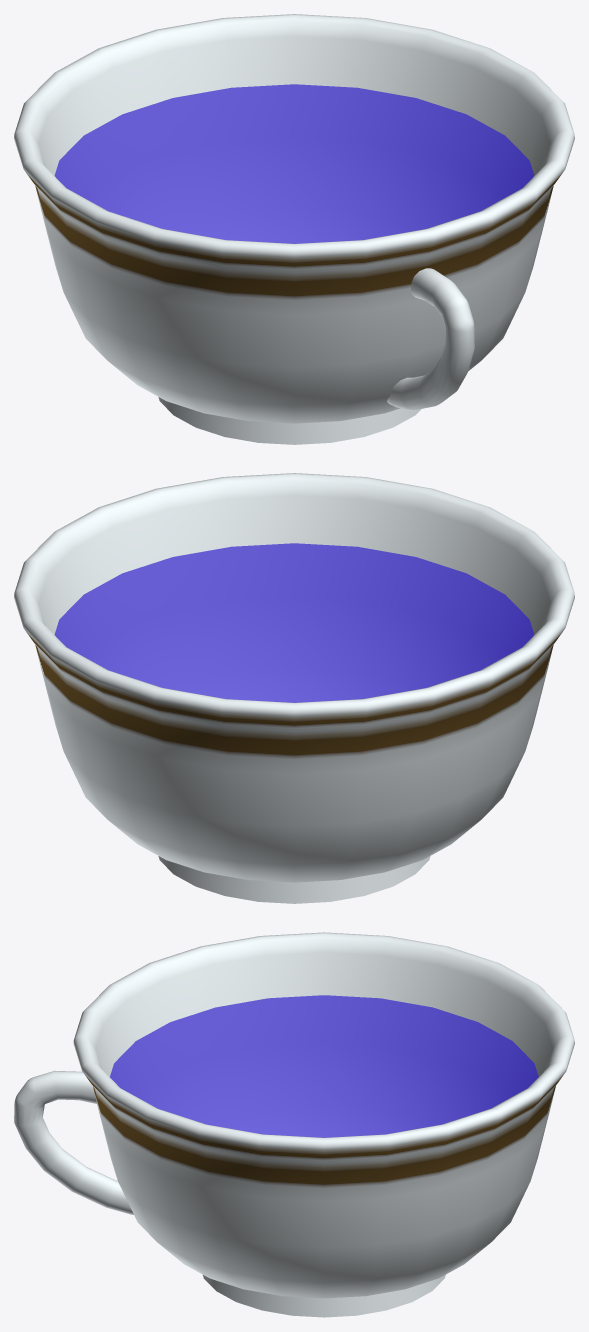
Rendered from 飲み物_ティーカップ.fbx.
3 views of the same model, one above another, from view 1: azimuth 30°, elevation 25°; view 2: azimuth 150°, elevation 25°; view 3: azimuth 270°, elevation 25° (orthographic). The views are drawn at different scales.
Visible parts, largest first — view 1: ティーカップ, 液面; view 2: ティーカップ, 液面; view 3: ティーカップ, 液面.
Part boxes in pixels (x1,y1,x2,y2): ティーカップ: [14, 14, 574, 444]; 液面: [54, 84, 534, 243]; ティーカップ: [14, 473, 574, 903]; 液面: [54, 543, 534, 702]; ティーカップ: [14, 932, 574, 1317]; 液面: [110, 995, 538, 1137].
Size of the model in its own units: 9.8 by 4.93 by 10.96.
Materials: 2 (1 with a texture image).
